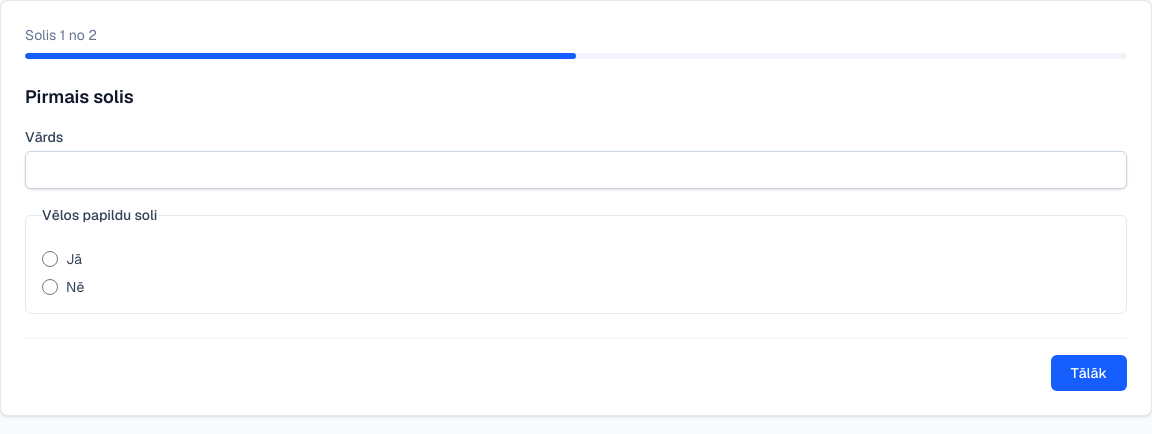
Test case: Wizard › skips the conditional step entirely when 'wantsExtra' is no
The width and height of the screenshot is (1152, 434).
Click the radio button labelled "Nē".
click(50, 287)  # box [42,279,58,295]
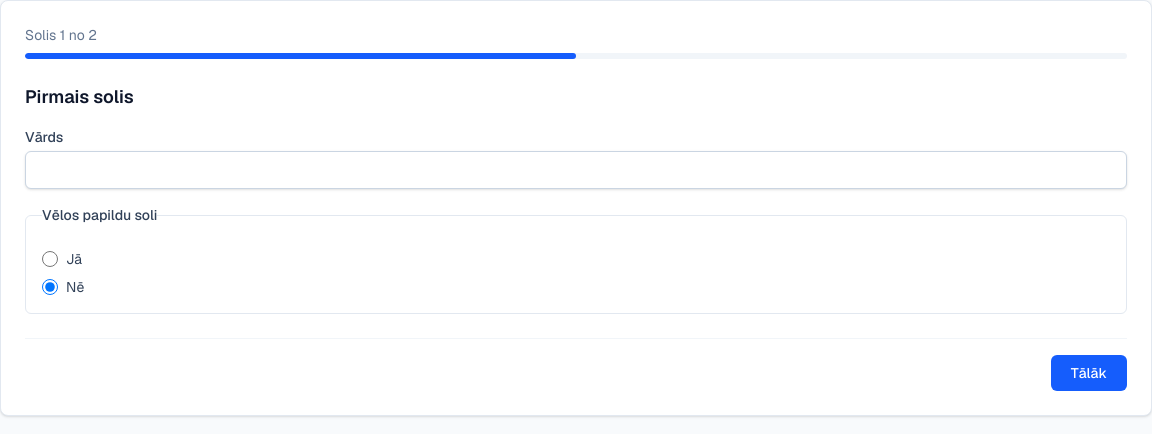
Click the button "Tālāk".
click(1089, 373)  # box [1051,355,1127,391]
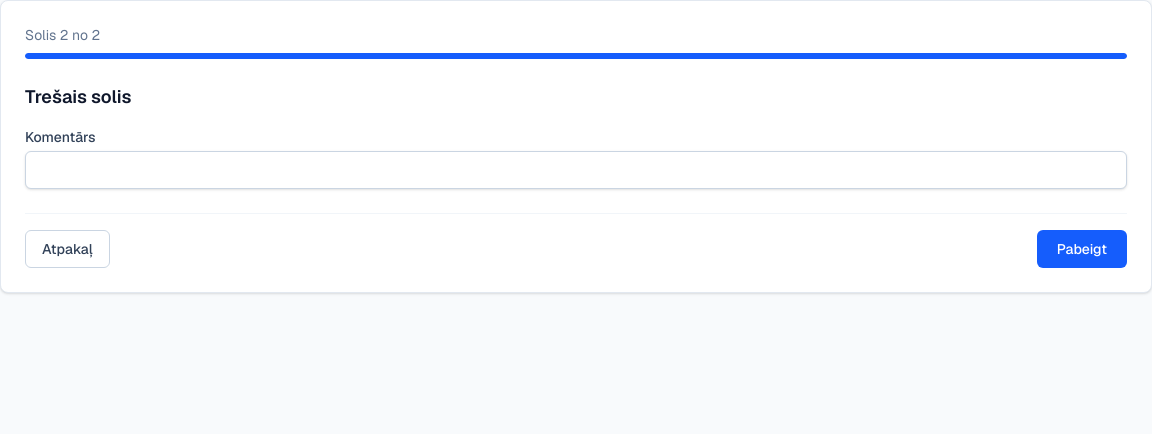
Expected: the heading "Trešais solis" is shown, [25,85,131,108]
